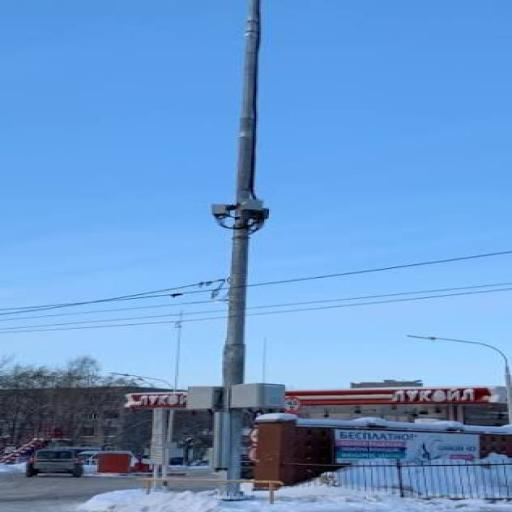odn_pole: (186, 0, 287, 493), (407, 335, 510, 418)
